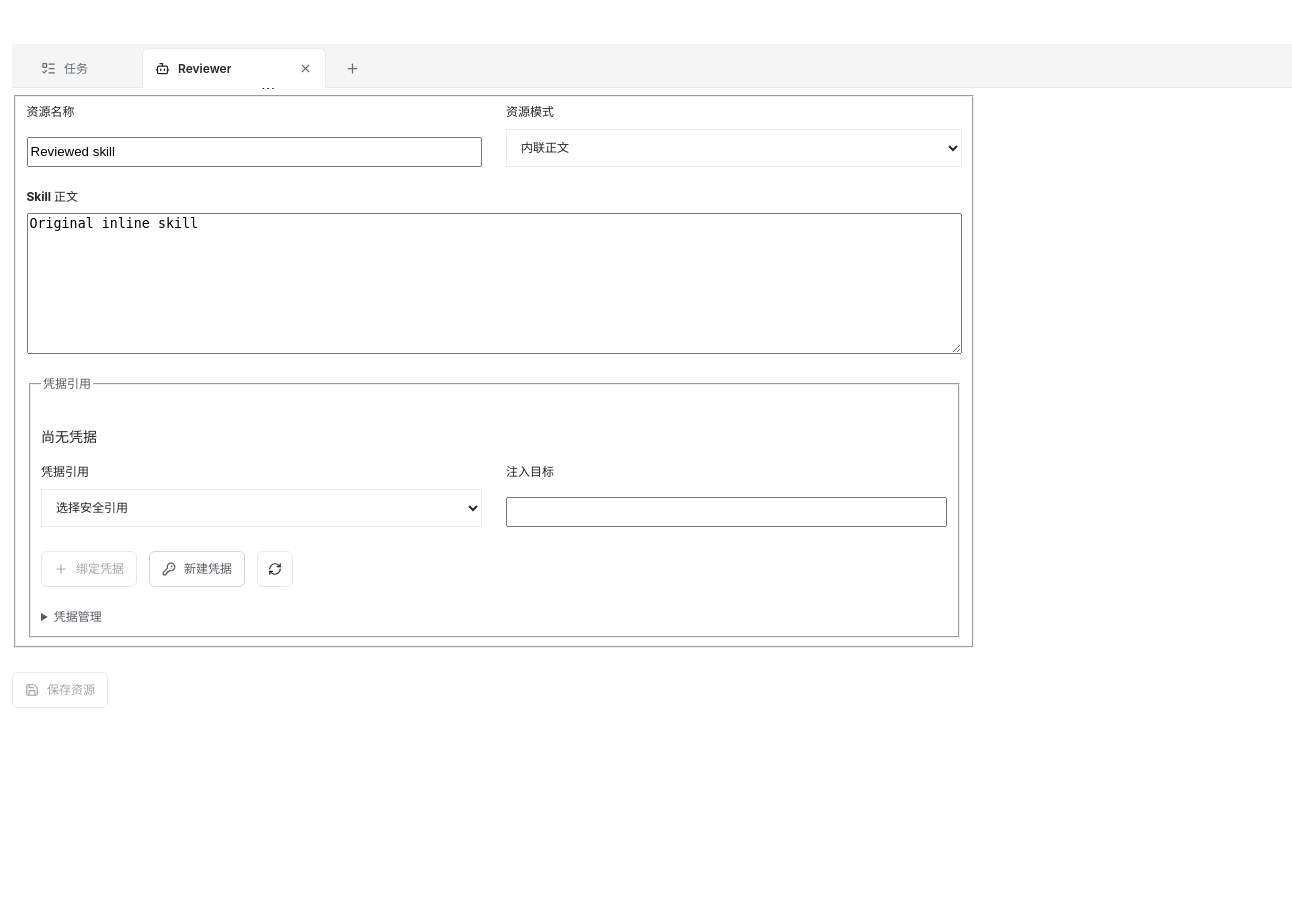
typed independent capability resource edits › retains one original resource revision request and reads its exact result after a lost reply
In the text box labelled "Skill 正文": x=494, y=284 [26,213,962,354], type " local edit"
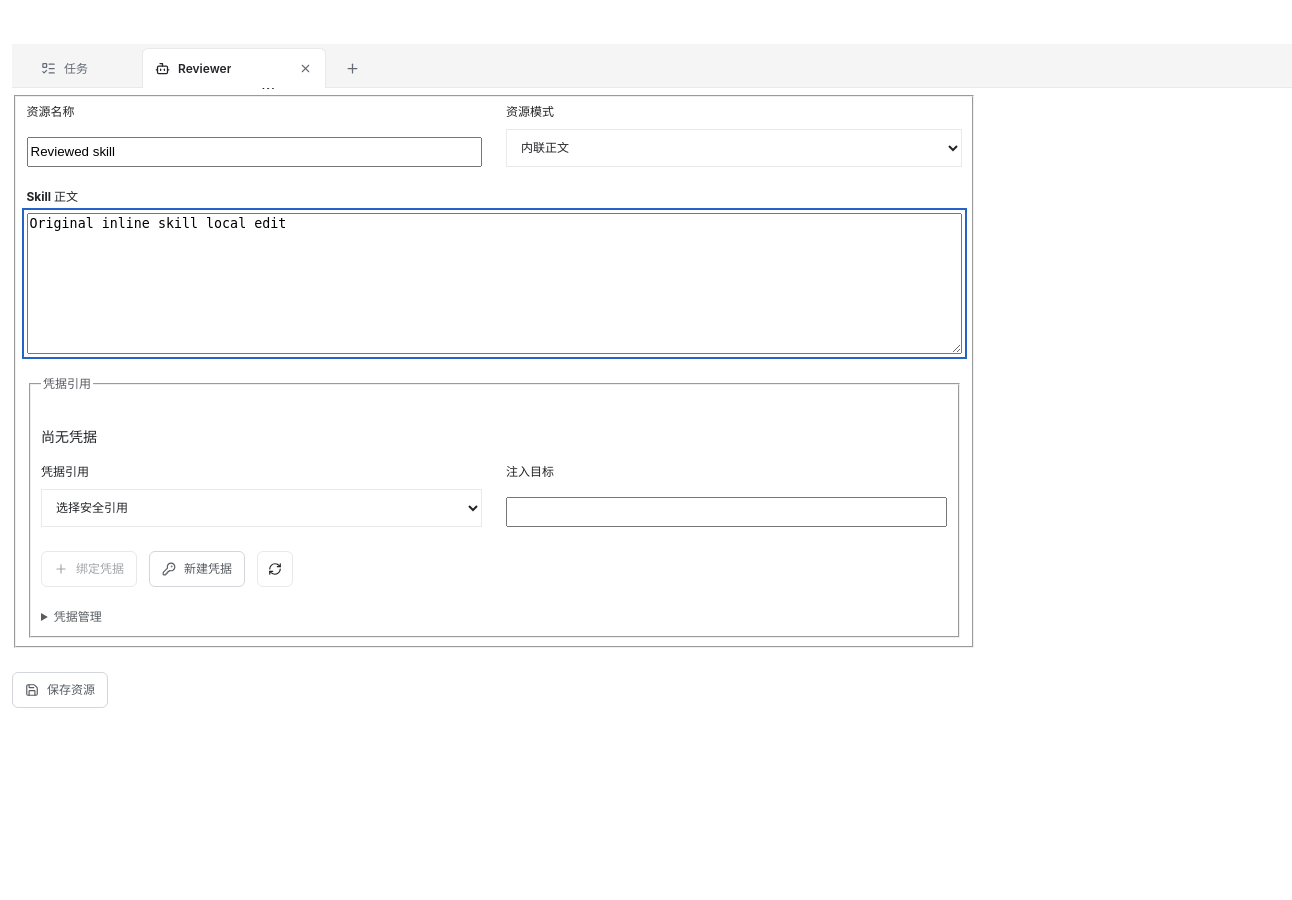
Click the button "保存资源": x=60, y=690 [12,672,108,708]
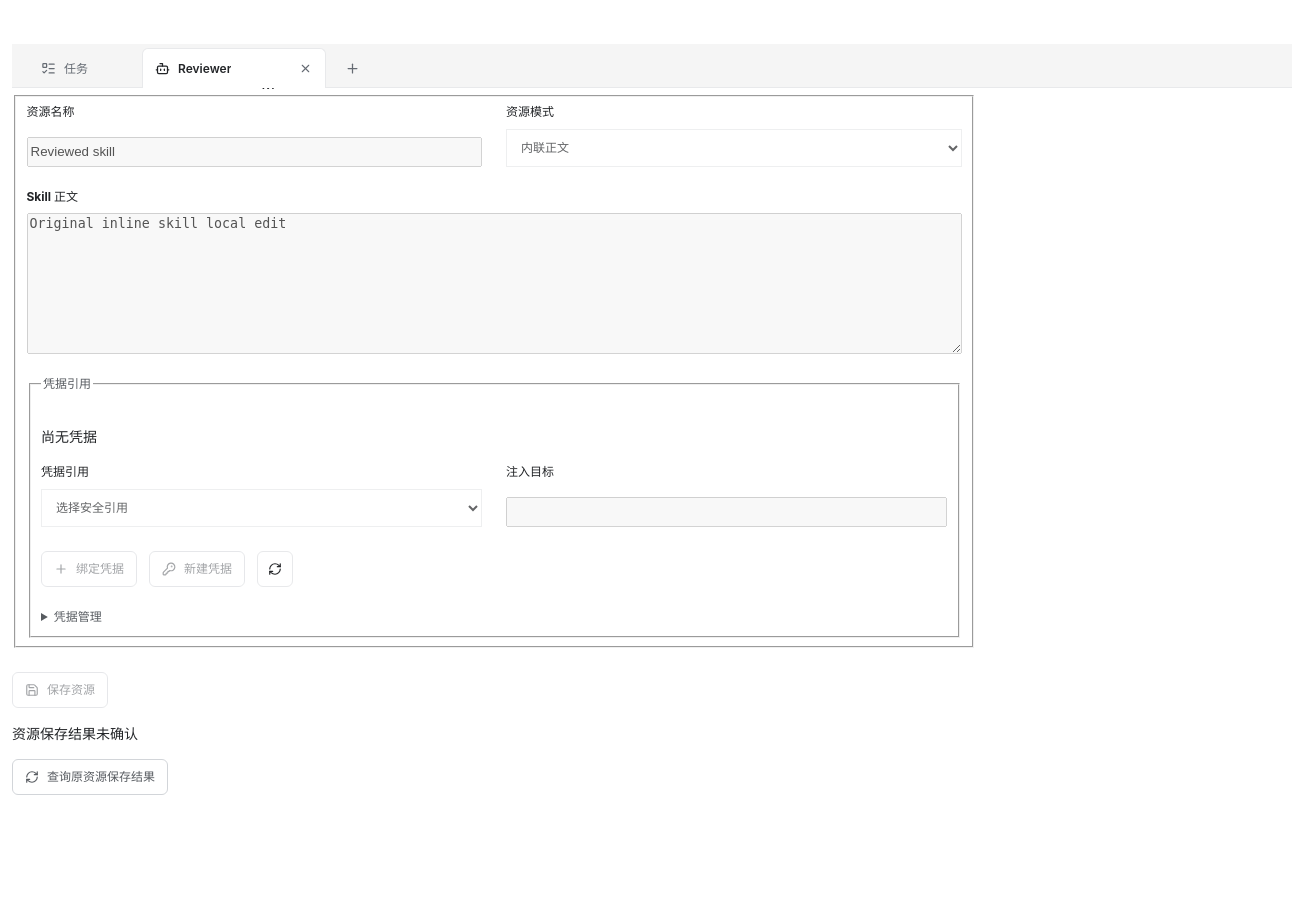
Now the text "资源保存结果未确认" is shown, box [12,725,138,742]
Click the button "查询原资源保存结果": x=90, y=777 [12,759,168,795]
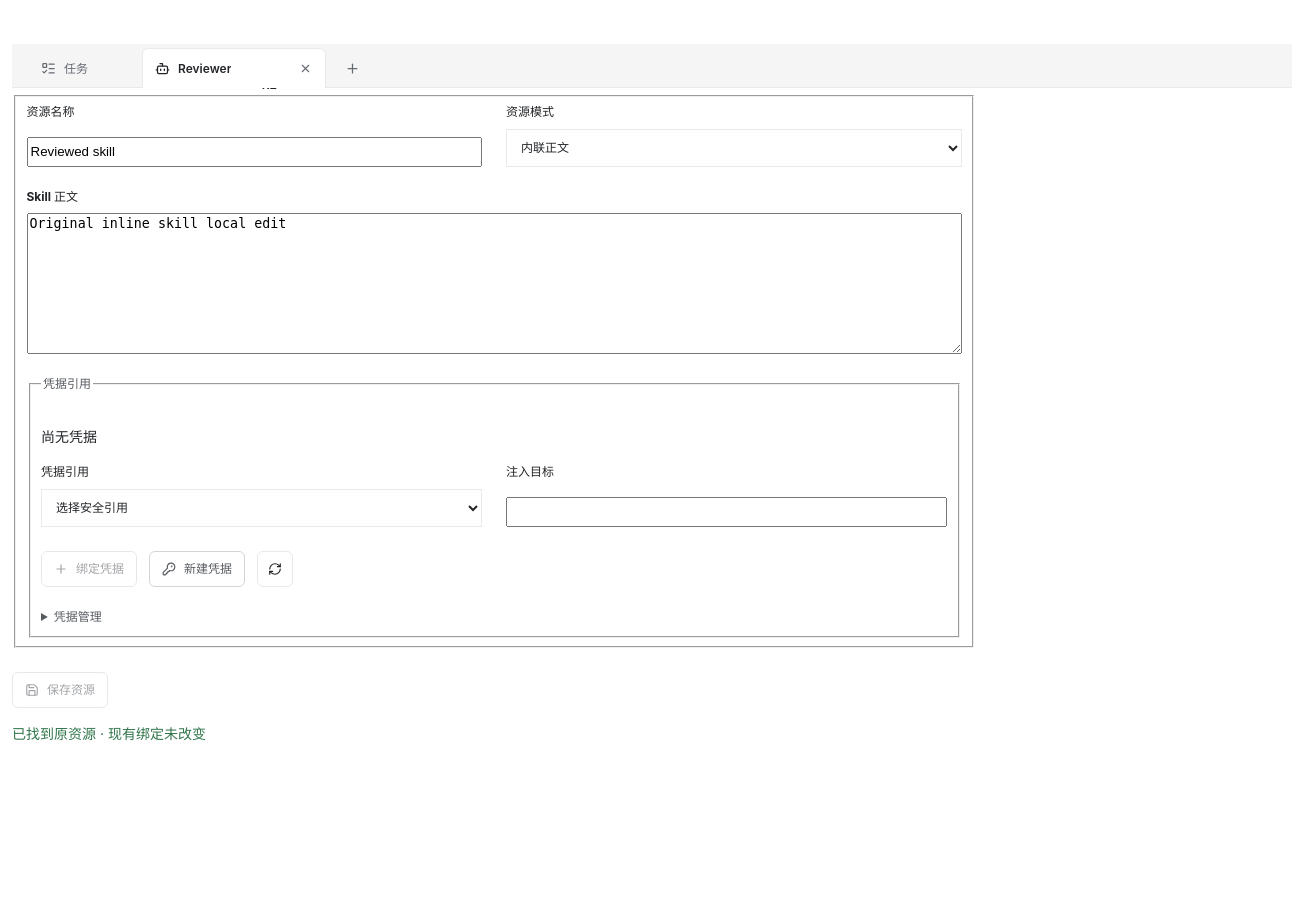
Now the text "已找到原资源 · 现有绑定未改变" is shown, box [12,725,206,742]
